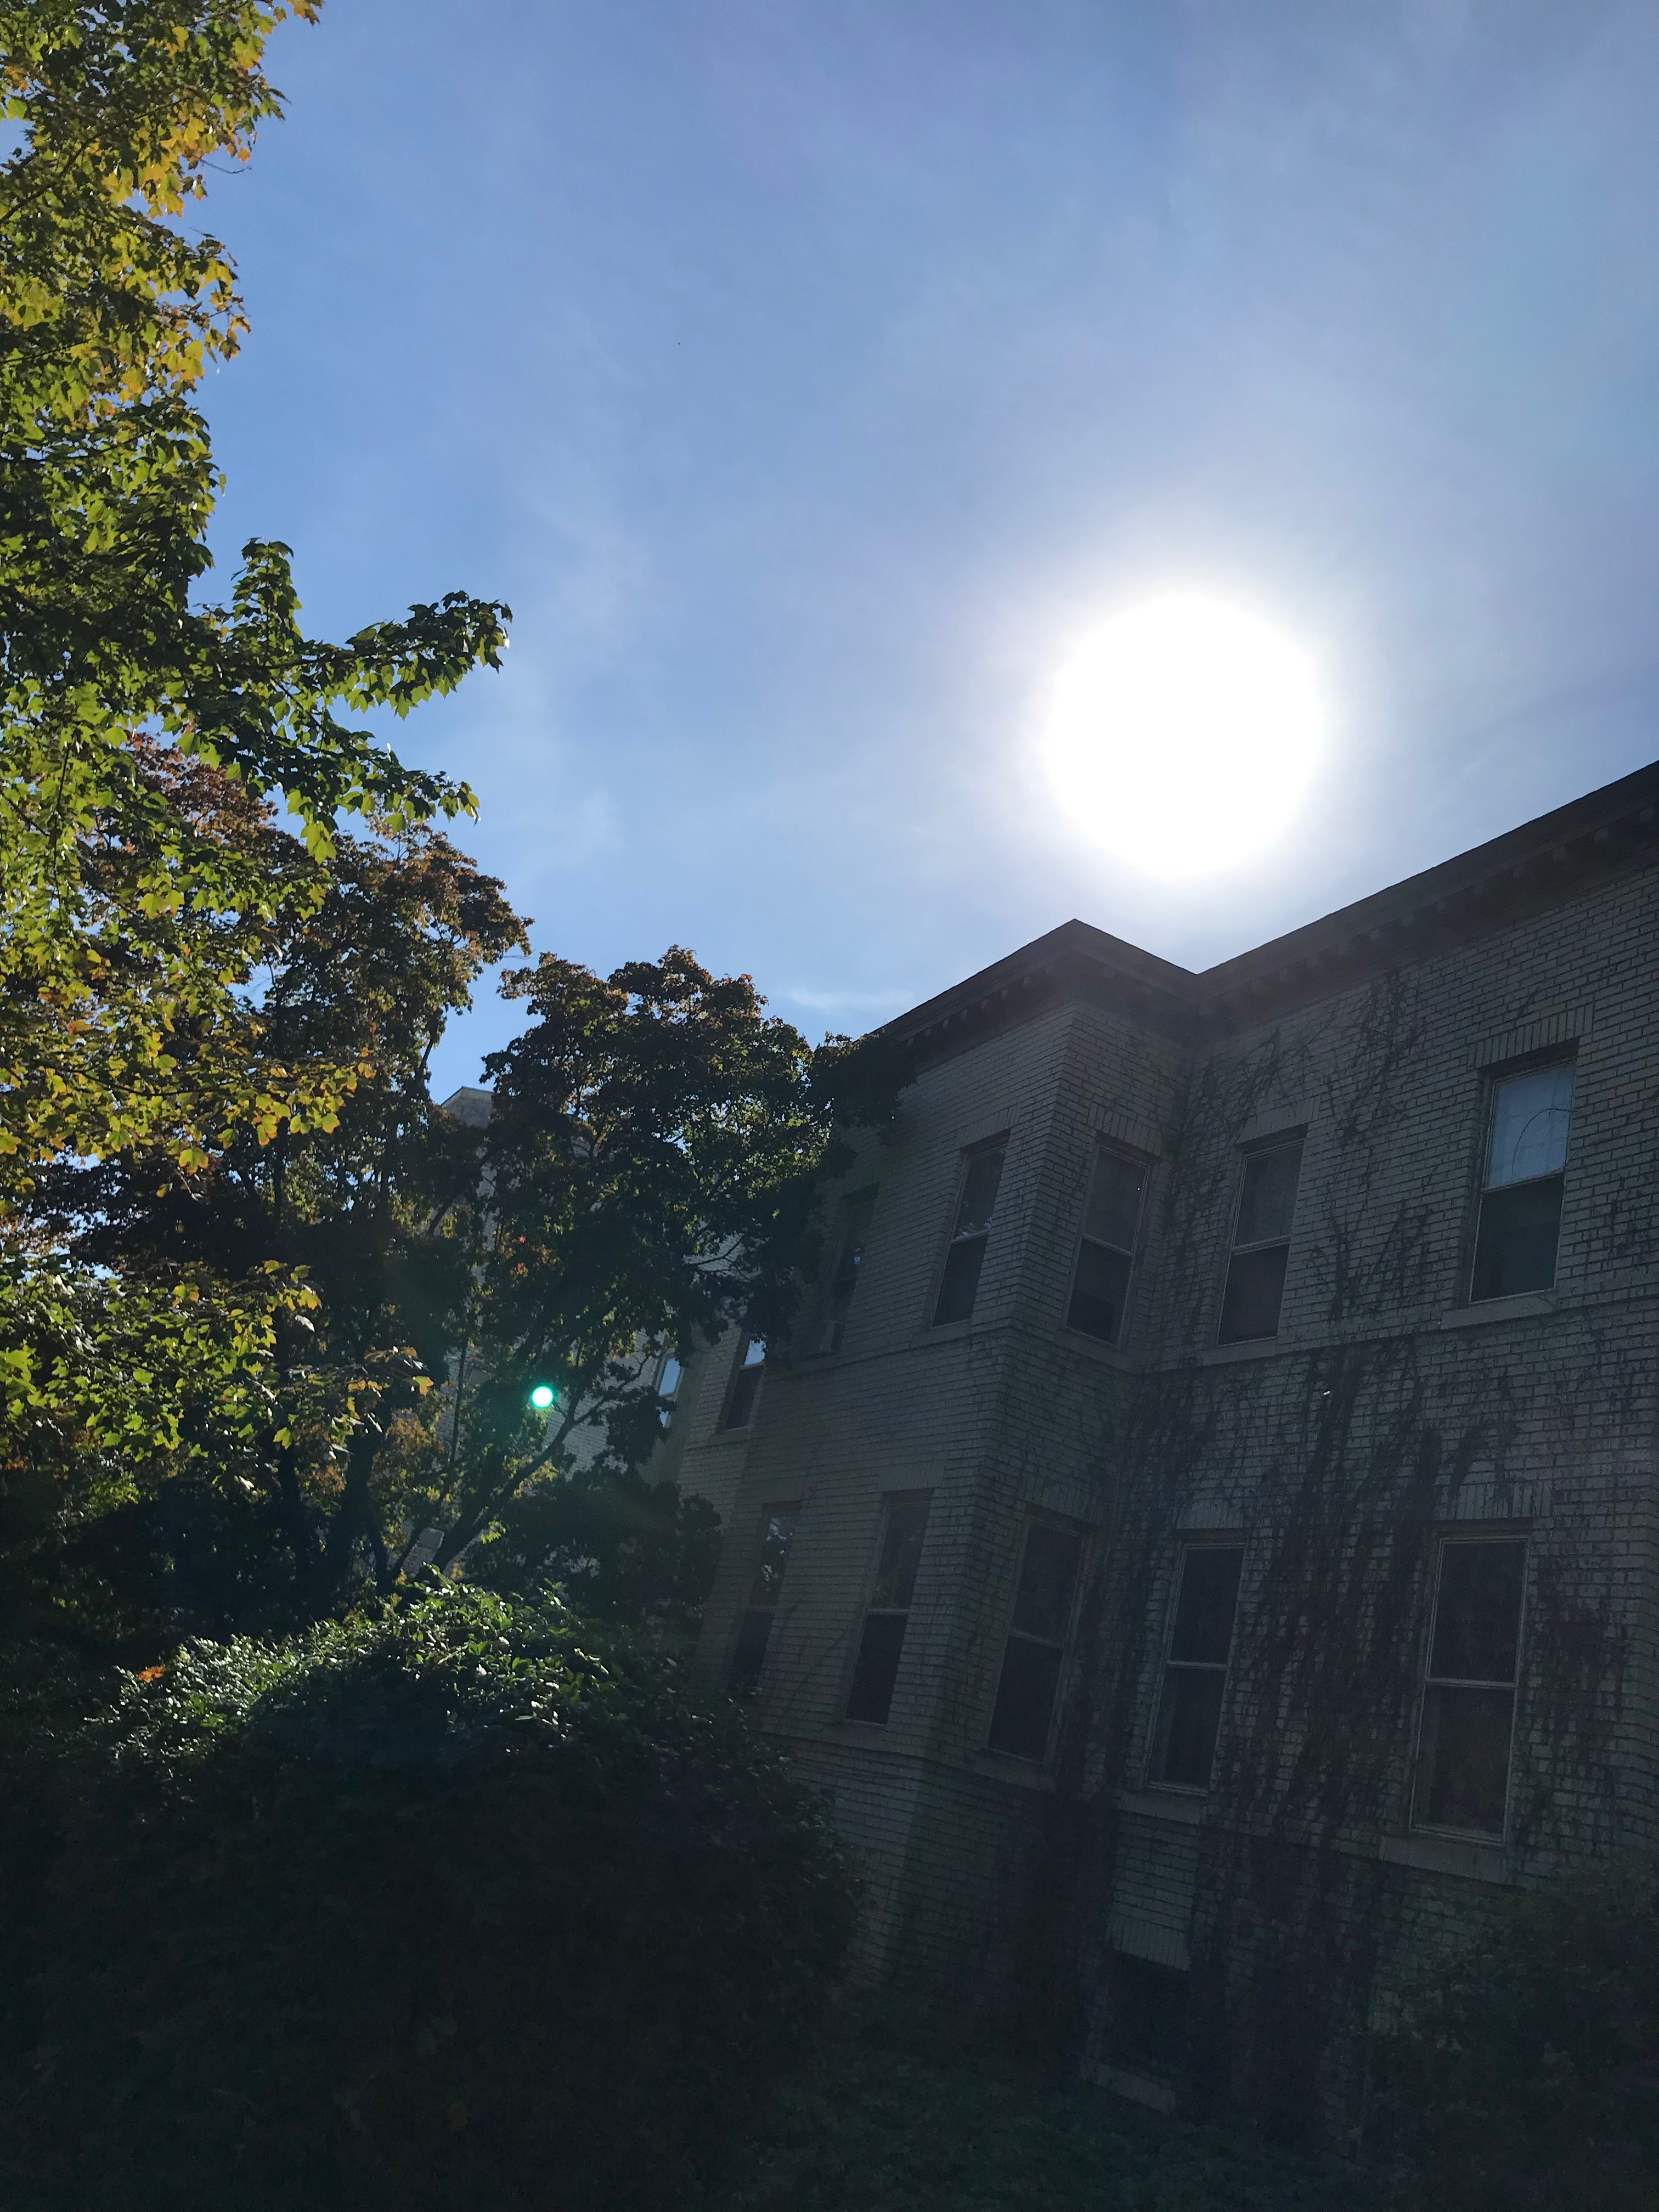flare: (530, 1383, 556, 1411)
